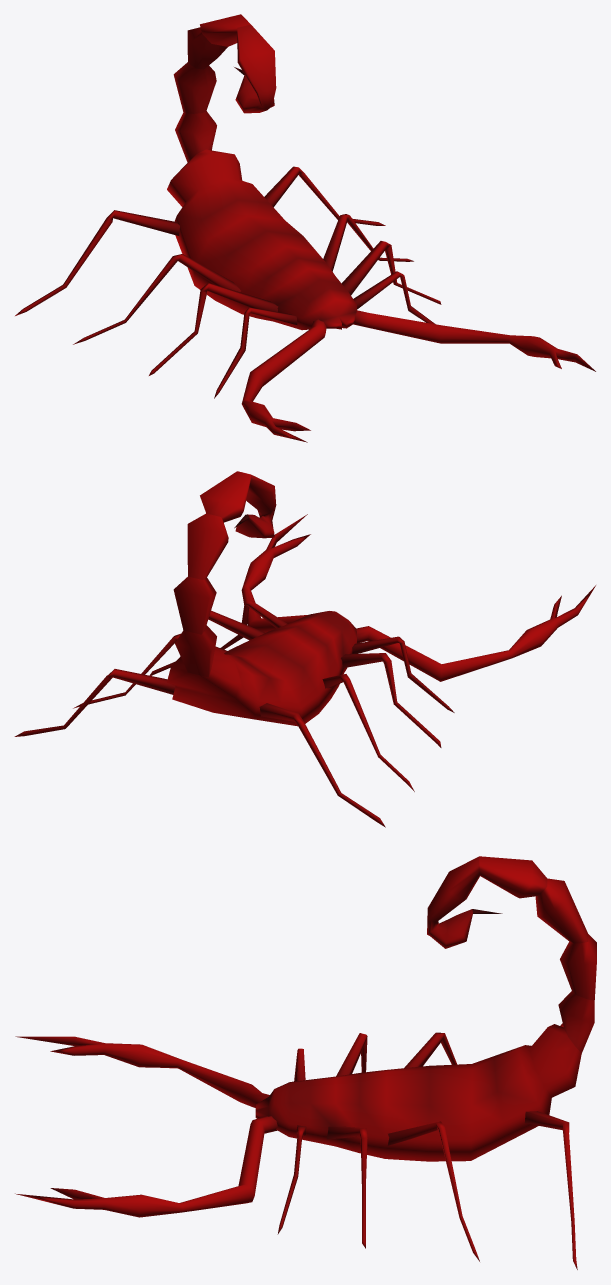
File: Arachnids_DeathStalkerScorpion.fbx
3 views of the same model, one above another, from view 1: azimuth 30°, elevation 25°; view 2: azimuth 150°, elevation 25°; view 3: azimuth 270°, elevation 25° (orthographic). The views are drawn at different scales.
Parts seen in each view (by area): view 1: base; view 2: base; view 3: base.
Part boxes in pixels (x1,y1,x2,y2): base: (15,14,595,442); base: (14,471,595,827); base: (15,856,596,1269).
Size of the model in its own units: 60.59 by 43.16 by 73.71.
